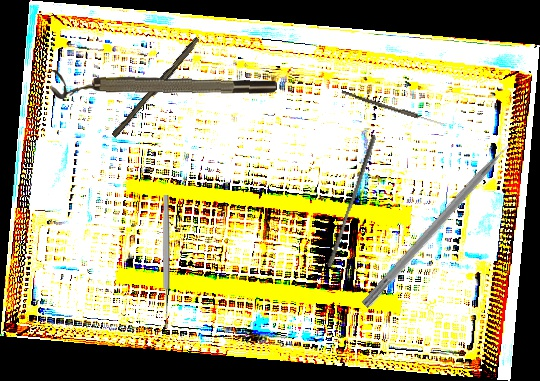Fixation Ring: (50, 69, 277, 107)
Pusher: (360, 128, 527, 311), (326, 133, 377, 269)
Scalpel Handle: (111, 35, 202, 141)
Surgical Spoon: (340, 90, 446, 127), (162, 195, 170, 328)
